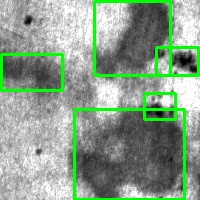inclusion: (156, 47, 198, 75), (144, 93, 175, 119)
patches: (74, 109, 184, 199), (94, 1, 170, 75), (1, 54, 62, 90)
